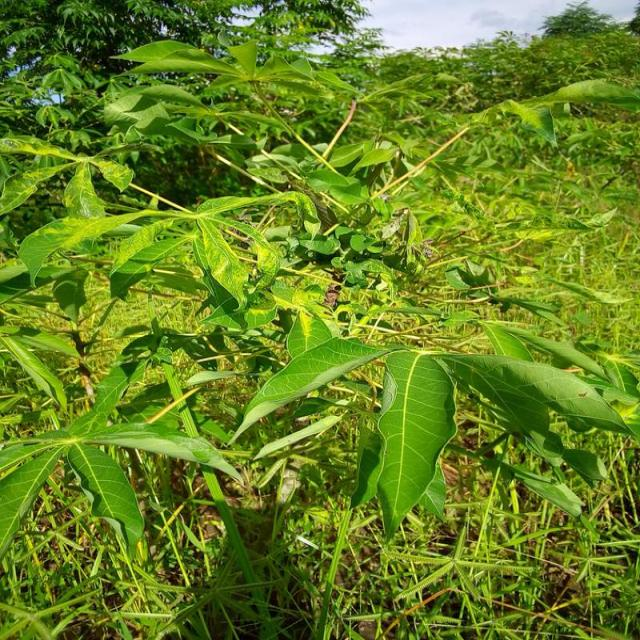cassava leaf: (374, 348, 460, 538)
